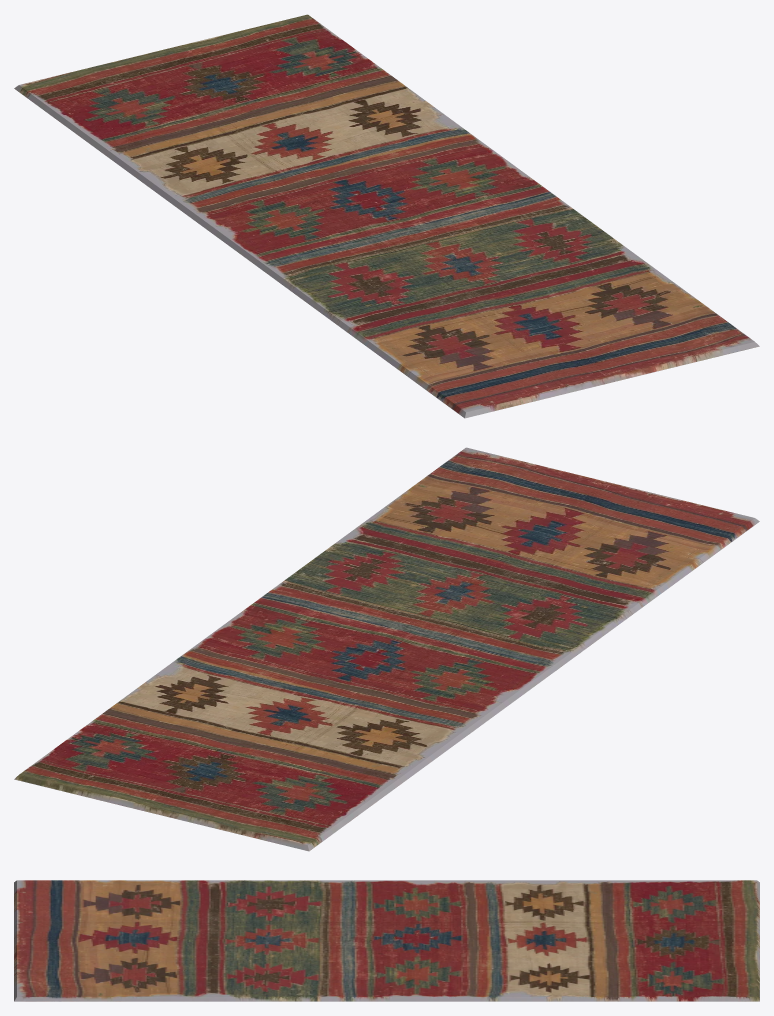
The model's file is rug-anatolian-runner.glb.
The picture shows the model from 3 angles, top to bottom: view 1: azimuth 30°, elevation 25°; view 2: azimuth 150°, elevation 25°; view 3: azimuth 270°, elevation 25°; orthographic projection. The views are drawn at different scales.
Visible parts, largest first — view 1: rug-anatolian-runner; view 2: rug-anatolian-runner; view 3: rug-anatolian-runner.
Part boxes in pixels (x1,y1,x2,y2): rug-anatolian-runner: [14, 14, 759, 418]; rug-anatolian-runner: [14, 447, 759, 851]; rug-anatolian-runner: [14, 880, 759, 1001].
Size of the model in its own units: 0.76 by 0.0101 by 2.01.
Materials: 1 (1 with a texture image).
